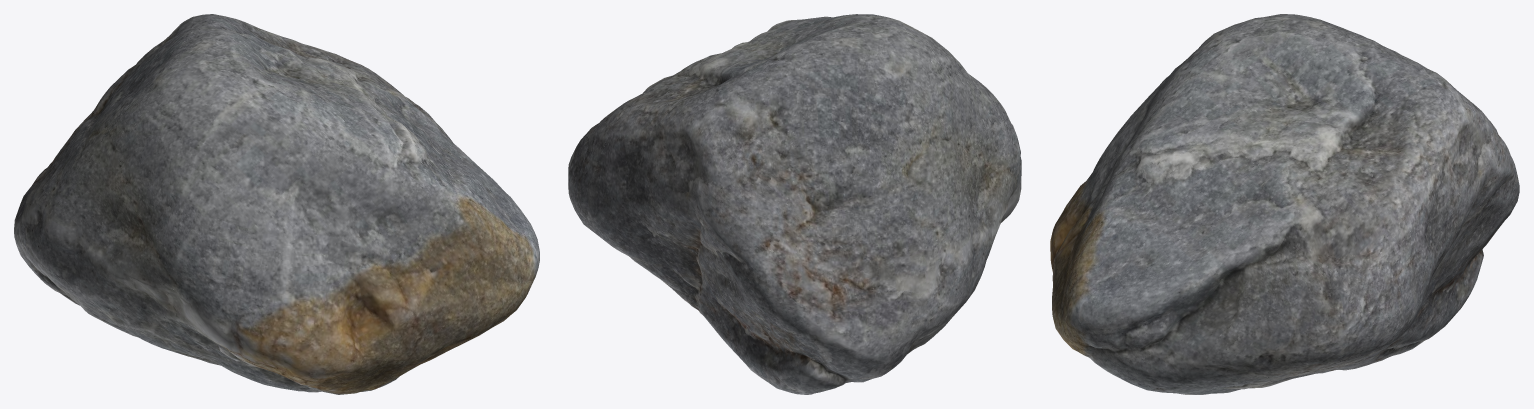
The picture shows the model from 3 angles, left to right: view 1: azimuth 30°, elevation 25°; view 2: azimuth 150°, elevation 25°; view 3: azimuth 270°, elevation 25°; orthographic projection. The views are drawn at different scales.
Parts seen in each view (by area): view 1: rock-020; view 2: rock-020; view 3: rock-020.
Boxes of the visible parts, <box> form: rock-020: <box>14,14,539,394</box>; rock-020: <box>568,14,1021,394</box>; rock-020: <box>1050,14,1519,394</box>.
Size of the model in its own units: 1.99 by 1.52 by 2.
Materials: 1 (1 with a texture image).
